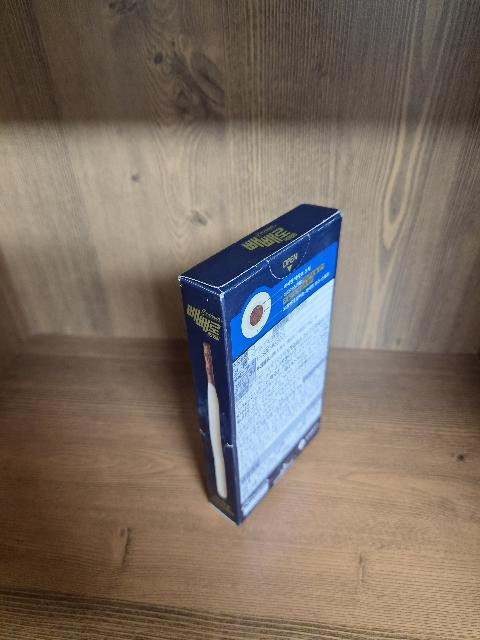pepero: (178, 204, 343, 525)
